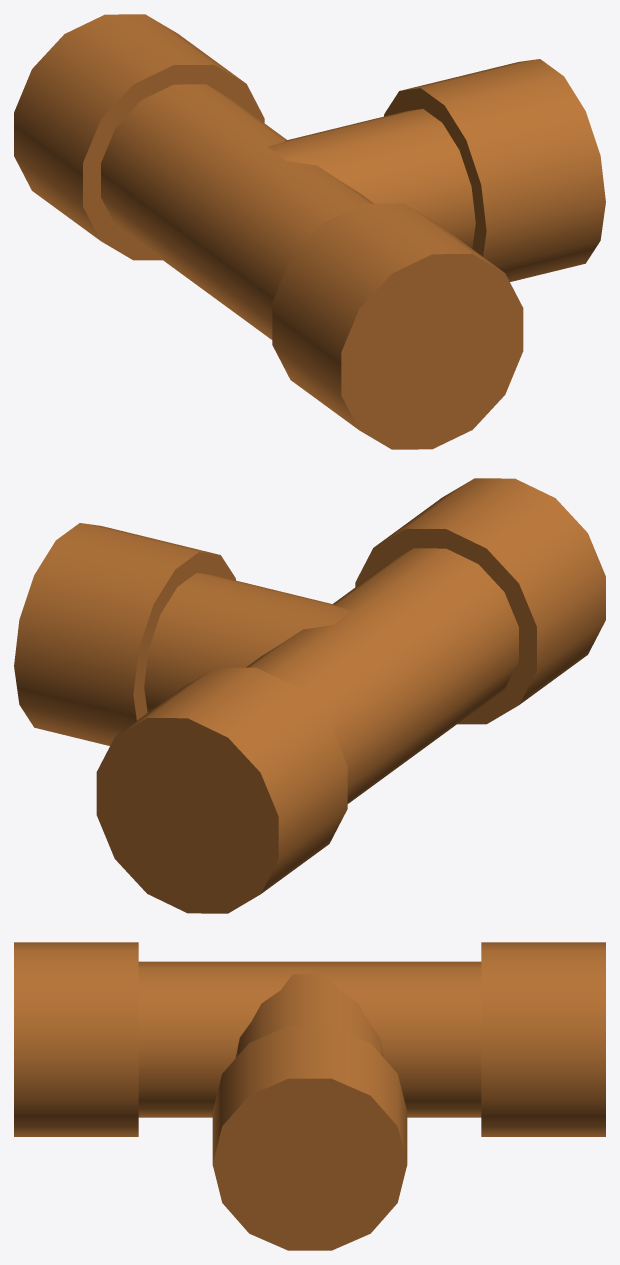
File: services.pipe.tee_28.glb
3 views of the same model, one above another, from view 1: azimuth 30°, elevation 25°; view 2: azimuth 150°, elevation 25°; view 3: azimuth 270°, elevation 25° (orthographic). The views are drawn at different scales.
Visible parts, largest first — view 1: main__copper; view 2: main__copper; view 3: main__copper.
Boxes of the visible parts, x1,y1,x2,y2 form: main__copper: [14, 14, 605, 449]; main__copper: [14, 478, 605, 913]; main__copper: [14, 942, 605, 1250].
Size of the model in its own units: 0.0703 by 0.035 by 0.1064.
